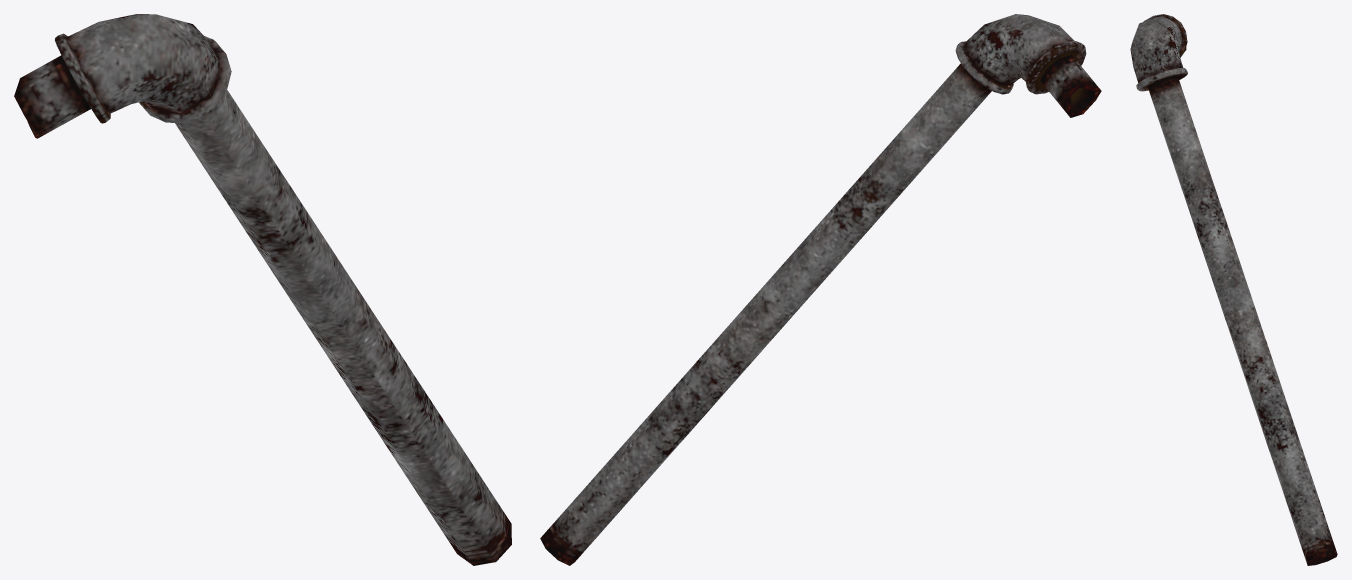
3 renders of one model, left to right at view 1: azimuth 30°, elevation 25°; view 2: azimuth 150°, elevation 25°; view 3: azimuth 270°, elevation 25°, orthographic. The views are drawn at different scales.
Visible parts, largest first — view 1: Weapon_MetalPipe; view 2: Weapon_MetalPipe; view 3: Weapon_MetalPipe.
Part boxes in pixels (<box>): Weapon_MetalPipe: <box>14,14,511,565</box>; Weapon_MetalPipe: <box>540,14,1101,565</box>; Weapon_MetalPipe: <box>1130,14,1337,565</box>.
Bounding box in the file's own units: 0.4814 × 0.5602 × 0.2539.
1 material, 1 textured.
